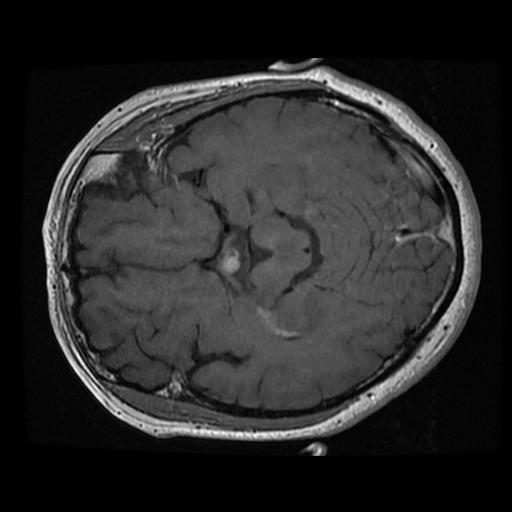pituitary tumour: (220, 247, 241, 276)
